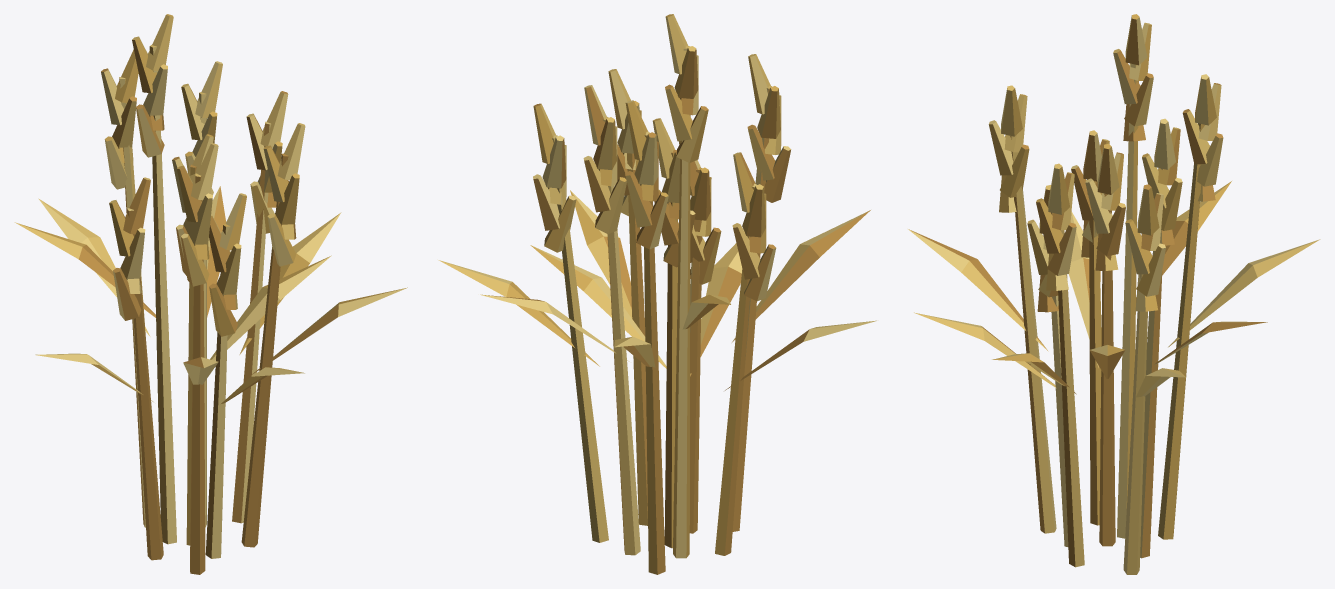
File: farm-wheat-mature.glb
The picture shows the model from 3 angles, left to right: view 1: azimuth 30°, elevation 25°; view 2: azimuth 150°, elevation 25°; view 3: azimuth 270°, elevation 25°; orthographic projection. The views are drawn at different scales.
Visible parts, largest first — view 1: farm-wheat-mature; view 2: farm-wheat-mature; view 3: farm-wheat-mature.
Boxes of the visible parts, left/top/right/bottom form: farm-wheat-mature: left=14, top=14, right=407, bottom=574; farm-wheat-mature: left=438, top=14, right=876, bottom=574; farm-wheat-mature: left=908, top=14, right=1320, bottom=574.
Bounding box in the file's own units: 0.5937 × 0.8106 × 0.5808.
